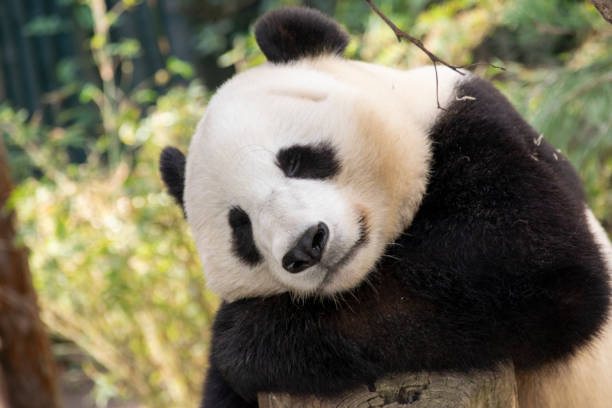panda: (140, 5, 520, 331)
